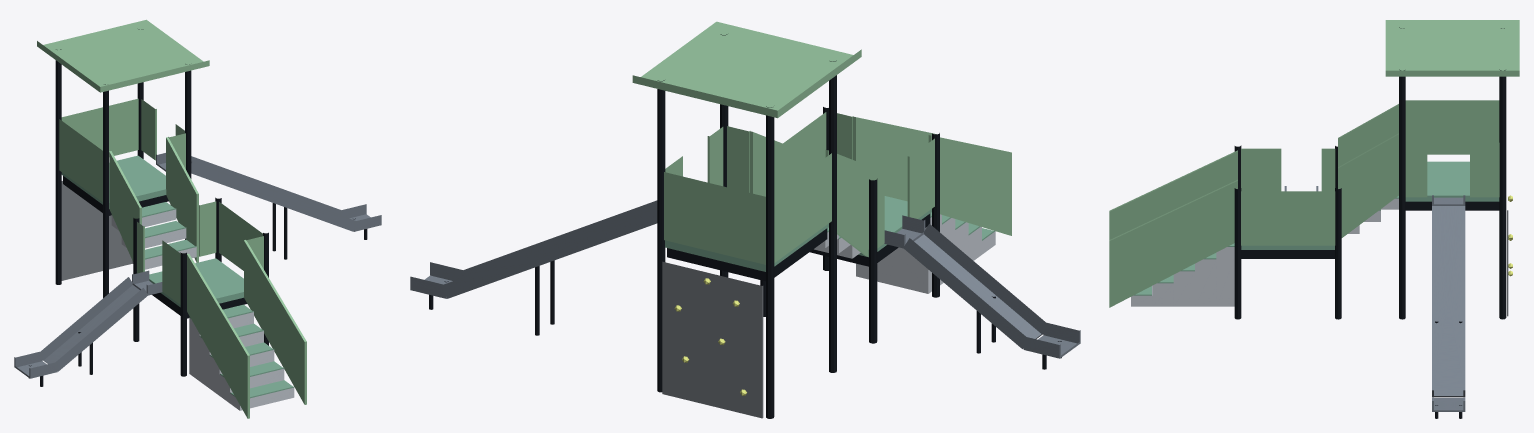
The picture shows the model from 3 angles, left to right: view 1: azimuth 30°, elevation 25°; view 2: azimuth 150°, elevation 25°; view 3: azimuth 270°, elevation 25°; orthographic projection. The views are drawn at different scales.
Parts seen in each view (by area): view 1: Stair_Cheeks, Guard_Panels, Slide_Chute, Canopy, Posts, Stair_Cast, Climb_Face, Decks, Treads_Rubber, Deck_Frame, Slide_Legs; view 2: Guard_Panels, Stair_Cheeks, Slide_Chute, Climb_Face, Canopy, Posts, Stair_Cast, Deck_Frame, Decks, Slide_Legs; view 3: Stair_Cheeks, Guard_Panels, Canopy, Slide_Chute, Posts, Stair_Cast, Decks, Deck_Frame.
Part boxes in pixels (x1,y1,x2,y2): Stair_Cheeks: [109, 137, 306, 418]; Guard_Panels: [59, 98, 263, 304]; Slide_Chute: [14, 153, 381, 378]; Canopy: [37, 19, 209, 92]; Posts: [55, 29, 268, 376]; Stair_Cast: [111, 209, 294, 410]; Climb_Face: [61, 181, 132, 280]; Decks: [61, 155, 243, 307]; Treads_Rubber: [142, 202, 294, 398]; Deck_Frame: [63, 176, 247, 318]; Slide_Legs: [29, 203, 367, 386]; Guard_Panels: [664, 112, 934, 264]; Stair_Cheeks: [750, 116, 1011, 256]; Slide_Chute: [410, 200, 1080, 358]; Climb_Face: [662, 261, 763, 418]; Canopy: [632, 21, 861, 118]; Posts: [657, 34, 939, 418]; Stair_Cast: [814, 214, 995, 293]; Deck_Frame: [667, 213, 930, 281]; Decks: [665, 200, 931, 271]; Slide_Legs: [429, 260, 1061, 369]; Stair_Cheeks: [1109, 104, 1398, 307]; Guard_Panels: [1241, 100, 1499, 245]; Canopy: [1385, 20, 1519, 76]; Slide_Chute: [1284, 186, 1465, 411]; Posts: [1234, 27, 1506, 319]; Stair_Cast: [1131, 198, 1398, 306]; Decks: [1241, 161, 1499, 249]; Deck_Frame: [1241, 201, 1499, 258].
Size of what is drawn, in the model's own units: 7.69 by 4.2 by 6.13.
Materials: 7 (3 with a texture image).
